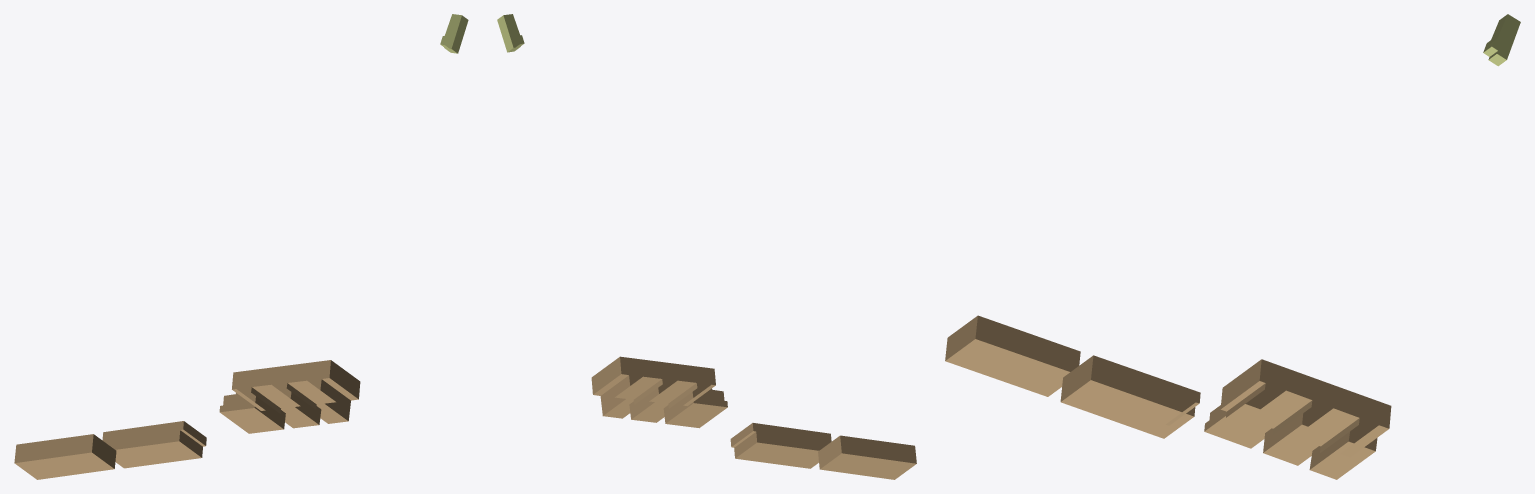
3 views of the same model, side by side, from view 1: azimuth 30°, elevation 25°; view 2: azimuth 150°, elevation 25°; view 3: azimuth 330°, elevation 25° (orthographic). The views are drawn at different scales.
Visible parts, largest first — view 1: 0_0_3_1_2_1; view 2: 0_0_3_1_2_1; view 3: 0_0_3_1_2_1.
Part boxes in pixels (x1,y1,x2,y2): 0_0_3_1_2_1: (14, 14, 468, 479); 0_0_3_1_2_1: (497, 14, 916, 479); 0_0_3_1_2_1: (945, 14, 1520, 479).
Size of the model in its own units: 227 by 192 by 28.6.
